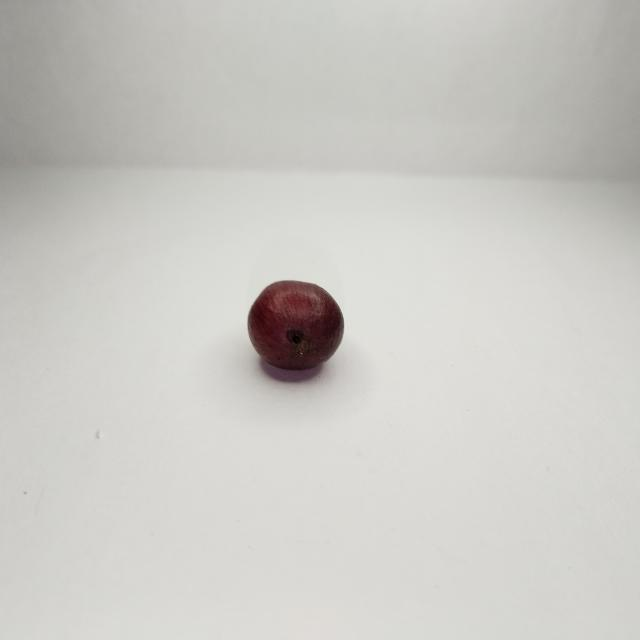Infectado: (247, 282, 345, 373)
